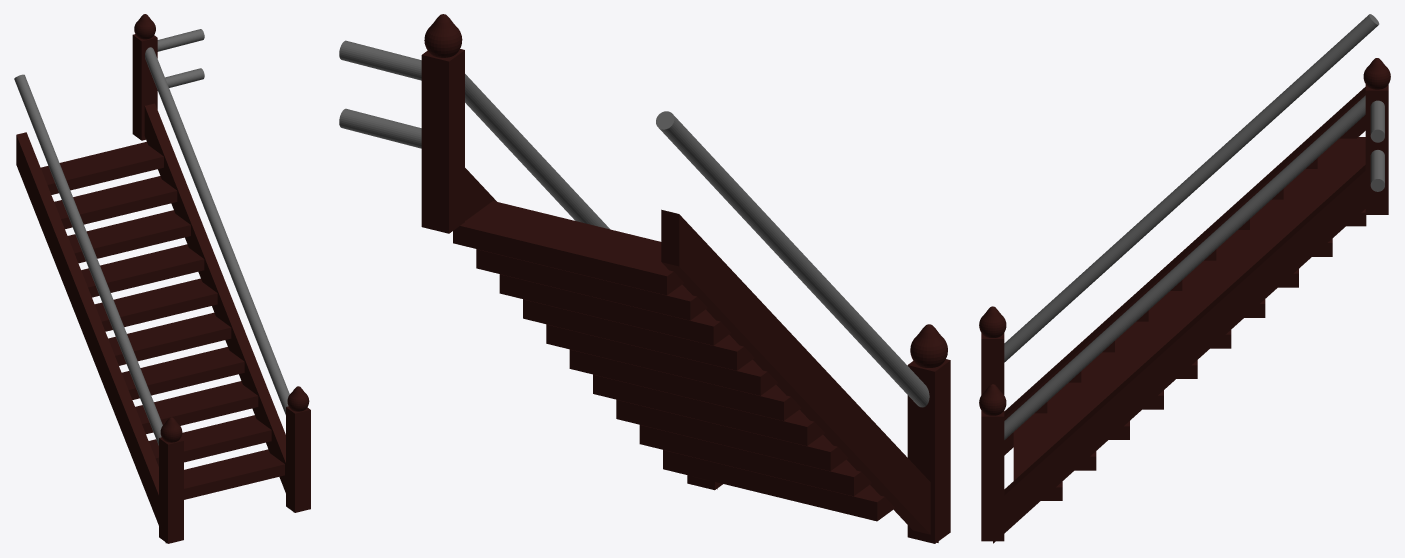
The model's file is Stairs.fbx.
3 views of the same model, side by side, from view 1: azimuth 30°, elevation 25°; view 2: azimuth 150°, elevation 25°; view 3: azimuth 270°, elevation 25° (orthographic). The views are drawn at different scales.
Visible parts, largest first — view 1: Railing.003; view 2: Railing.003; view 3: Railing.003.
Boxes of the visible parts, x1,y1,x2,y2 form: Railing.003: (14,14,310,543); Railing.003: (339,14,950,543); Railing.003: (979,14,1390,543).
Bounding box in the file's own units: 244 × 465 × 360.
